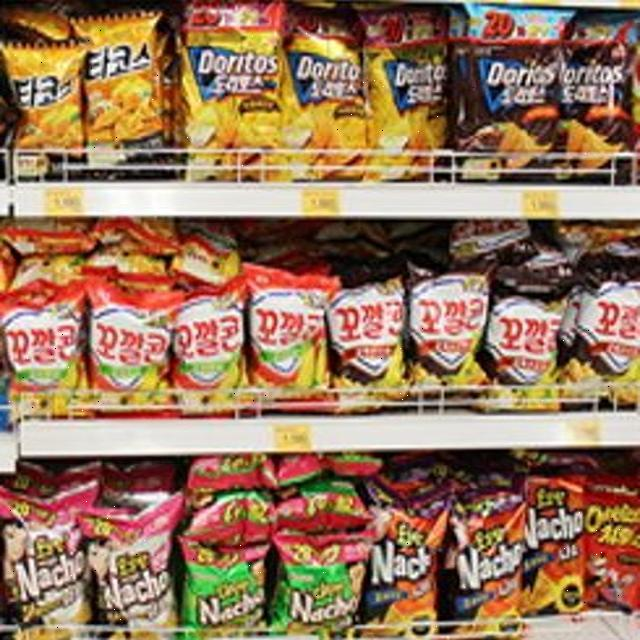product: (1, 492, 91, 639), (362, 487, 447, 636), (284, 26, 368, 175), (92, 498, 179, 640), (82, 13, 160, 165), (466, 48, 560, 174), (181, 35, 270, 167), (249, 273, 331, 410), (329, 277, 413, 410), (412, 262, 490, 389), (487, 284, 564, 412), (7, 304, 87, 422), (374, 49, 449, 174), (458, 498, 524, 633), (94, 303, 171, 416), (275, 541, 362, 640), (574, 276, 640, 404), (181, 540, 264, 638), (525, 483, 585, 614), (11, 46, 77, 164), (563, 44, 623, 169), (173, 299, 239, 412), (587, 489, 640, 612)
